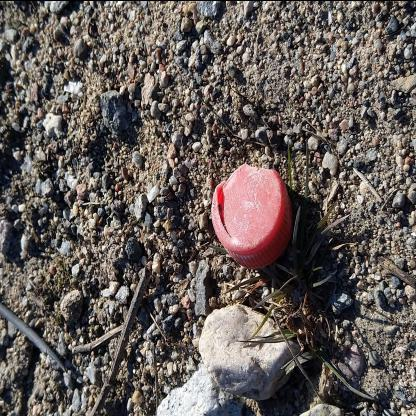plastik: (212, 164, 294, 270)
